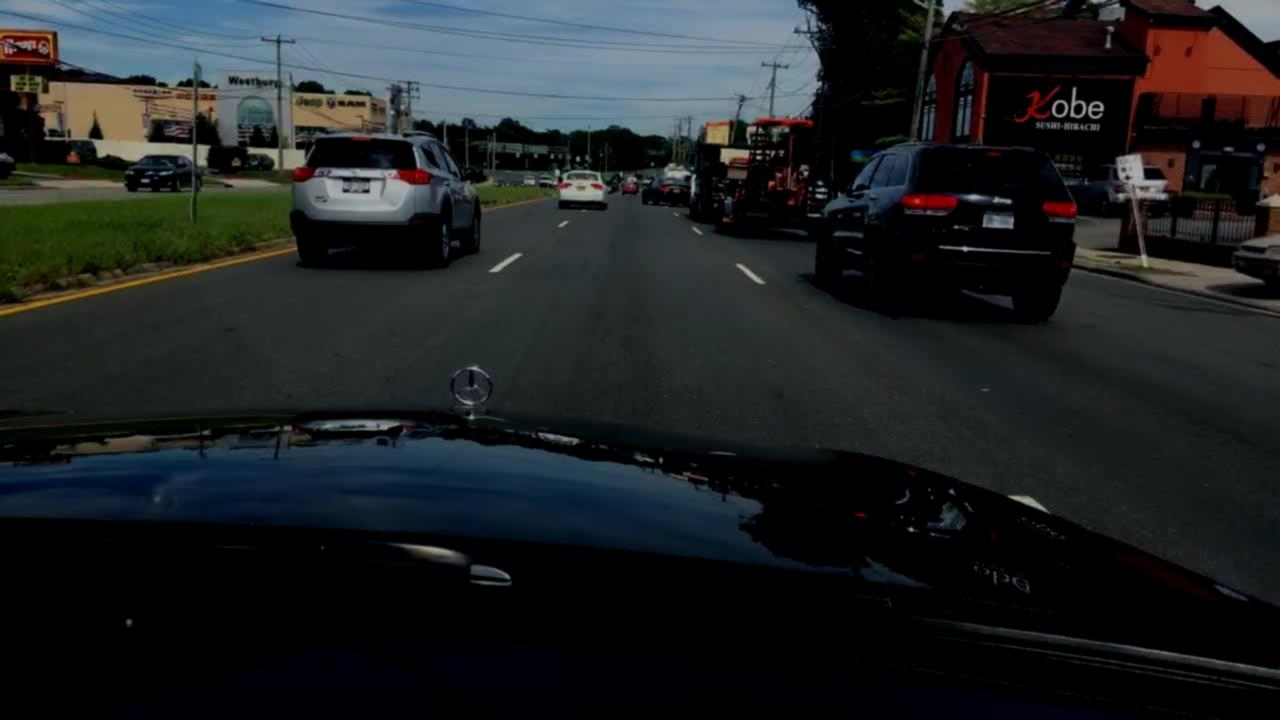Mercedes: (447, 356, 503, 412)
jeep: (991, 194, 1017, 207)
